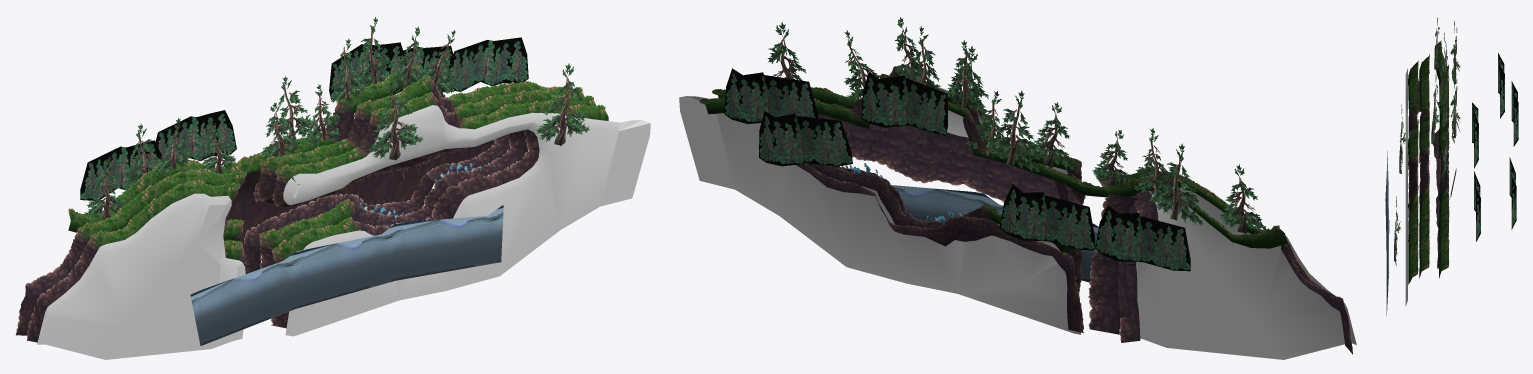
Rendered from Level 5 Crossroads Pt 2.FBX.
The picture shows the model from 3 angles, left to right: view 1: azimuth 30°, elevation 25°; view 2: azimuth 150°, elevation 25°; view 3: azimuth 270°, elevation 25°; orthographic projection. The views are drawn at different scales.
Parts seen in each view (by area): view 1: Black Pt 2 _2, Black Pt 2 _1, Fog Pt 2, Pine Tree Group Pt 2, Trees pt 2, Ground Pt 2 _2 FG, Dirt BG Pt 2_1, Ground Pt 2 _2, Ground Pt 2 _1 FG, Ground Pt 2 _2 BG, Ground Pt 2 _1, Trees pt 2 FG (+8 smaller); view 2: Black Pt 2 _2, Pine Tree Group Pt 2, Black Pt 2 _1, Trees pt 2, Ground Pt 2 _2 BG, Ground Pt 2 _2, Ground Pt 2 _5 BG, Fog Pt 2, Ground Pt 2 _2 FG, Ground Pt 2 _1 BG, Ground Pt 2 _1 FG, Ground Pt 2 _1 (+5 smaller); view 3: Pine Tree Group Pt 2, Trees pt 2, Ground Pt 2 _4, Ground Pt 2 _4 FG, Ground Pt 2 _4 BG, Ground Pt 2 _1 FG, Ground Pt 2 _1, Ground Pt 2 _1 BG, Black Pt 2 _2, Fog Pt 2, Trees pt 2 FG, Ground Pt 2 _2 BG (+7 smaller).
Boxes of the visible parts, x1,y1,x2,y2 form: Black Pt 2 _2: (283, 105, 650, 336); Black Pt 2 _1: (37, 193, 245, 359); Fog Pt 2: (190, 204, 503, 345); Pine Tree Group Pt 2: (80, 37, 528, 200); Trees pt 2: (83, 17, 457, 219); Ground Pt 2 _2 FG: (271, 129, 539, 328); Dirt BG Pt 2_1: (226, 139, 494, 267); Ground Pt 2 _2: (259, 130, 527, 268); Ground Pt 2 _1 FG: (27, 179, 243, 342); Ground Pt 2 _2 BG: (242, 134, 510, 273); Ground Pt 2 _1: (16, 168, 246, 335); Trees pt 2 FG: (368, 63, 590, 160); Black Pt 2 _2: (679, 87, 1081, 334); Pine Tree Group Pt 2: (724, 68, 1190, 271); Black Pt 2 _1: (1136, 187, 1356, 359); Trees pt 2: (844, 17, 1267, 233); Ground Pt 2 _2 BG: (795, 135, 1083, 329); Ground Pt 2 _2: (811, 113, 1082, 314); Ground Pt 2 _5 BG: (1055, 181, 1137, 334); Fog Pt 2: (890, 185, 1098, 282); Ground Pt 2 _2 FG: (806, 124, 1083, 332); Ground Pt 2 _1 BG: (1081, 177, 1287, 248); Ground Pt 2 _1 FG: (1119, 171, 1345, 345); Ground Pt 2 _1: (1096, 171, 1352, 354); Pine Tree Group Pt 2: (1472, 53, 1518, 241); Trees pt 2: (1431, 17, 1460, 182); Ground Pt 2 _4: (1419, 142, 1429, 278); Ground Pt 2 _4 FG: (1408, 149, 1418, 284); Ground Pt 2 _4 BG: (1439, 138, 1449, 278); Ground Pt 2 _1 FG: (1408, 60, 1420, 198); Ground Pt 2 _1: (1419, 53, 1429, 208); Ground Pt 2 _1 BG: (1434, 40, 1449, 121); Black Pt 2 _2: (1405, 131, 1410, 306); Fog Pt 2: (1385, 150, 1389, 315); Trees pt 2 FG: (1394, 104, 1405, 266); Ground Pt 2 _2 BG: (1436, 158, 1449, 268).
Size of what is drawn, in the model's own units: 7466 by 1601 by 3146.
